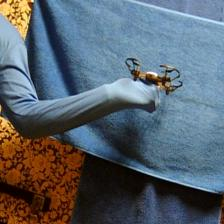drone: (123, 56, 183, 97)
